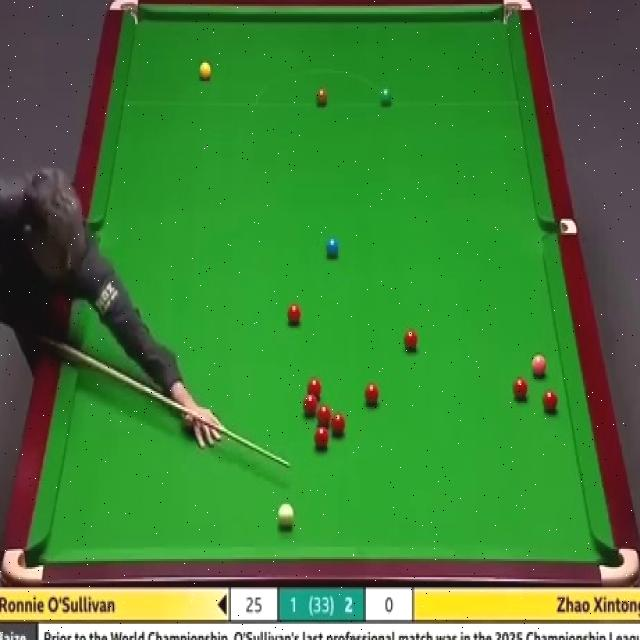blue-ball: (325, 236, 340, 257)
brown-ball: (315, 87, 328, 107)
green-ball: (379, 88, 395, 110)
pink-ball: (531, 352, 547, 378)
red-ball: (364, 382, 380, 406), (514, 377, 530, 401), (543, 390, 559, 413), (331, 414, 346, 438), (286, 304, 302, 326), (403, 330, 417, 352), (316, 408, 333, 425), (315, 428, 328, 450), (306, 378, 322, 395), (303, 393, 317, 410)
white-ball: (278, 502, 295, 527)
yellow-ball: (199, 62, 213, 83)
